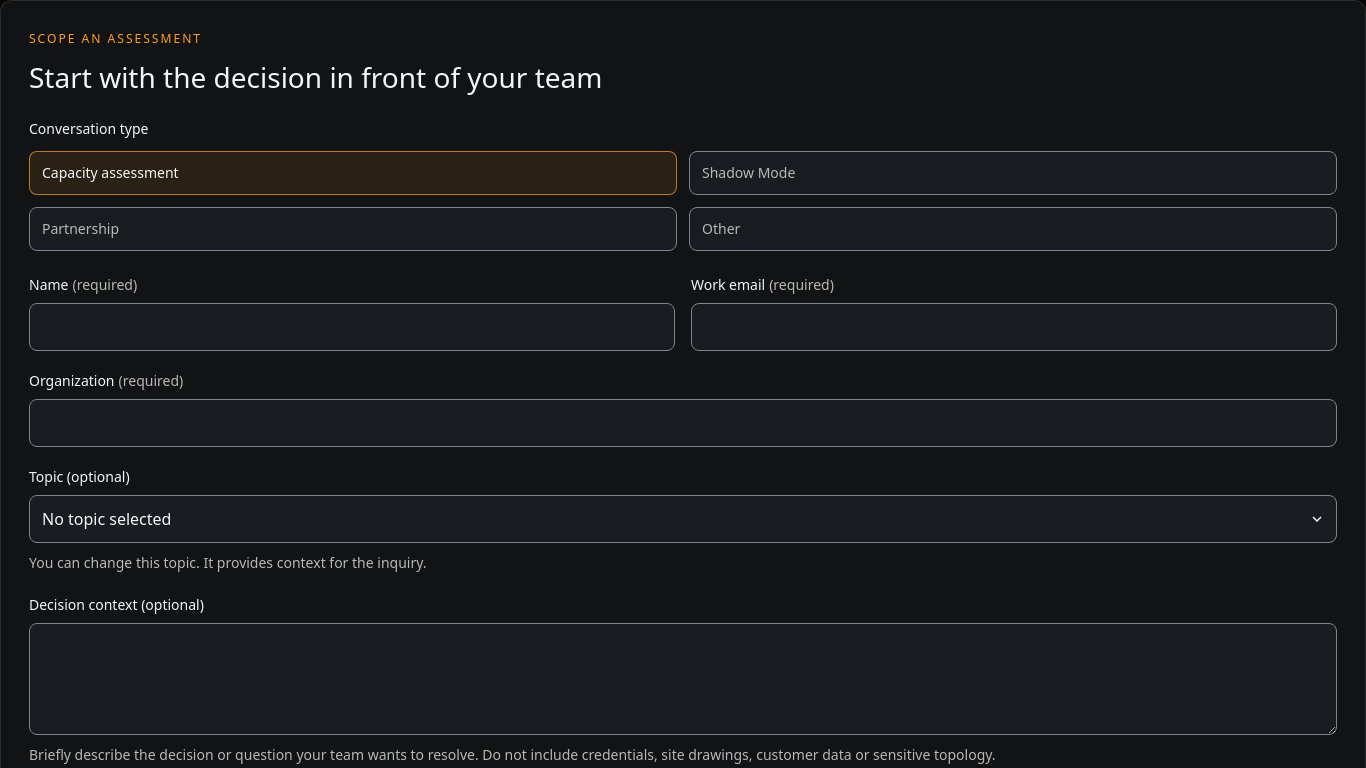
Test: truthful contact intake › shows durable receipt inline even with blocked tab storage and no message
This screenshot has width=1366, height=768.
Type "Alex Operator" into the field labelled "Name".
click(352, 327); type("Alex Operator")  # box x1=29 y1=303 x2=675 y2=351
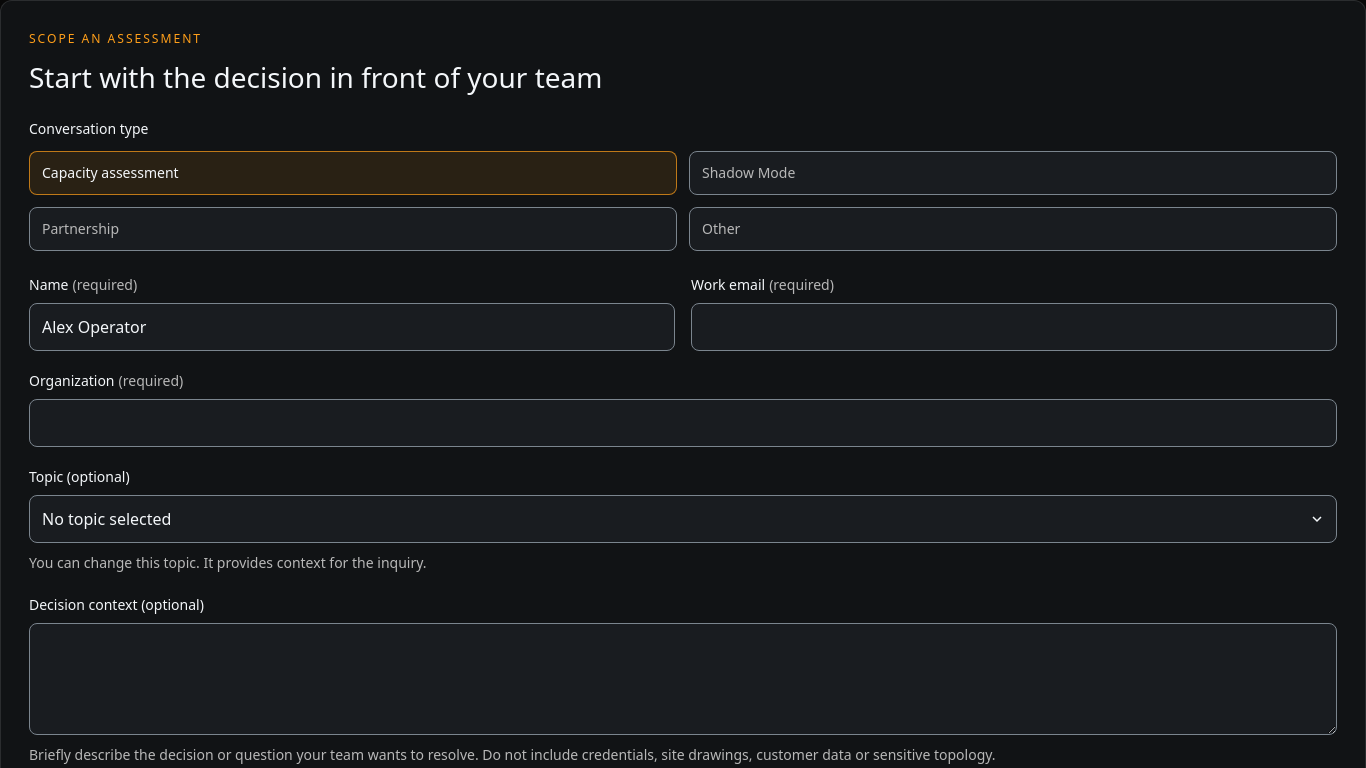
Type "alex@example.com" into the field labelled "Work email".
click(1014, 327); type("alex@example.com")  # box x1=691 y1=303 x2=1337 y2=351
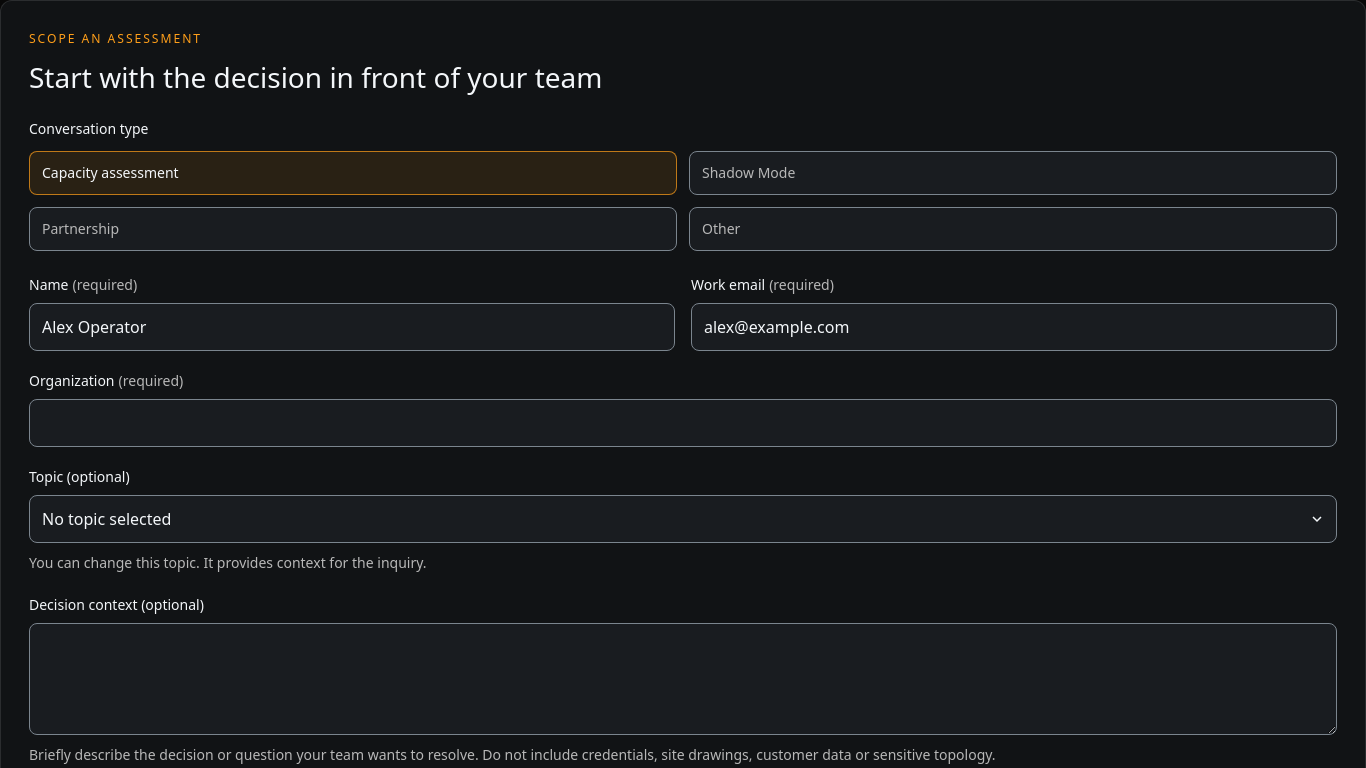
Type "Example Compute" into the field labelled "Organization".
click(683, 423); type("Example Compute")  # box x1=29 y1=399 x2=1337 y2=447
(page scrolled)
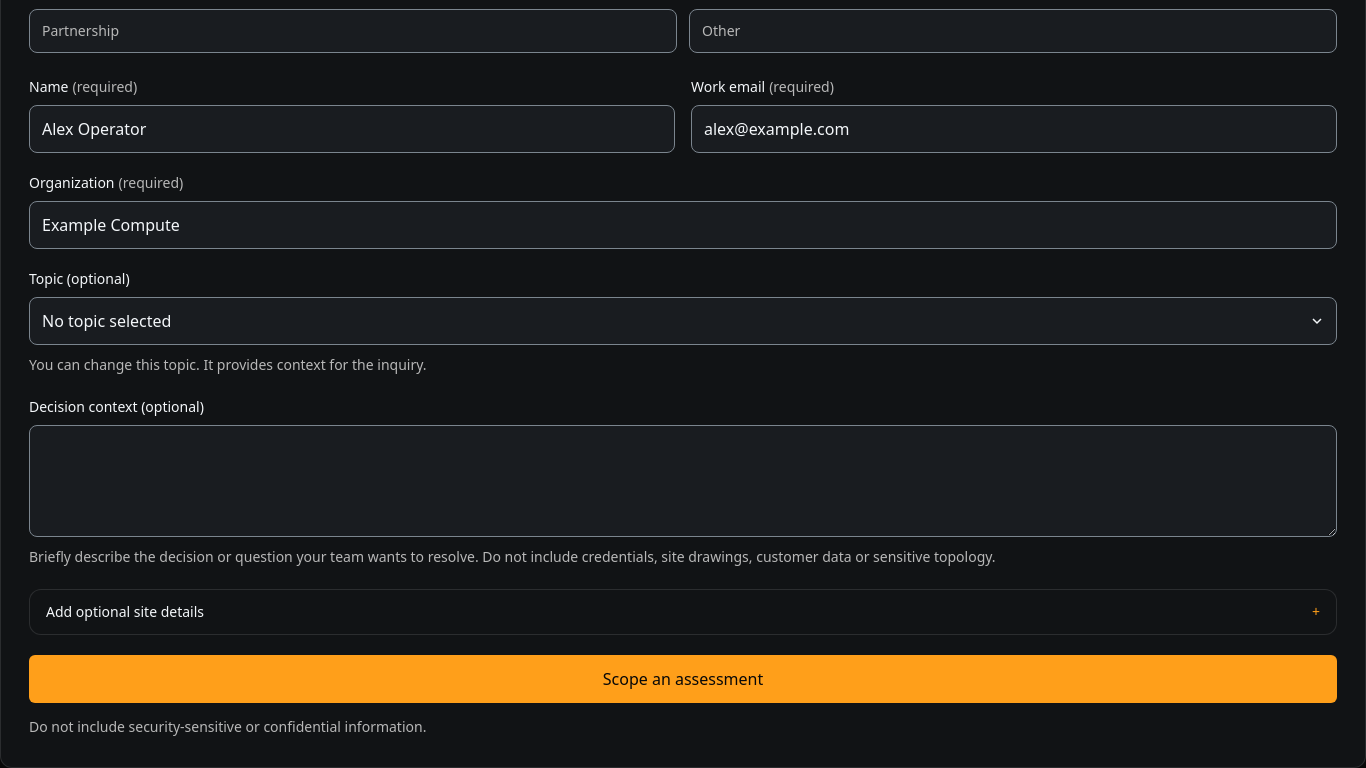
Click the button "Scope an assessment".
click(683, 679)  # box x1=29 y1=655 x2=1337 y2=703
(page scrolled)
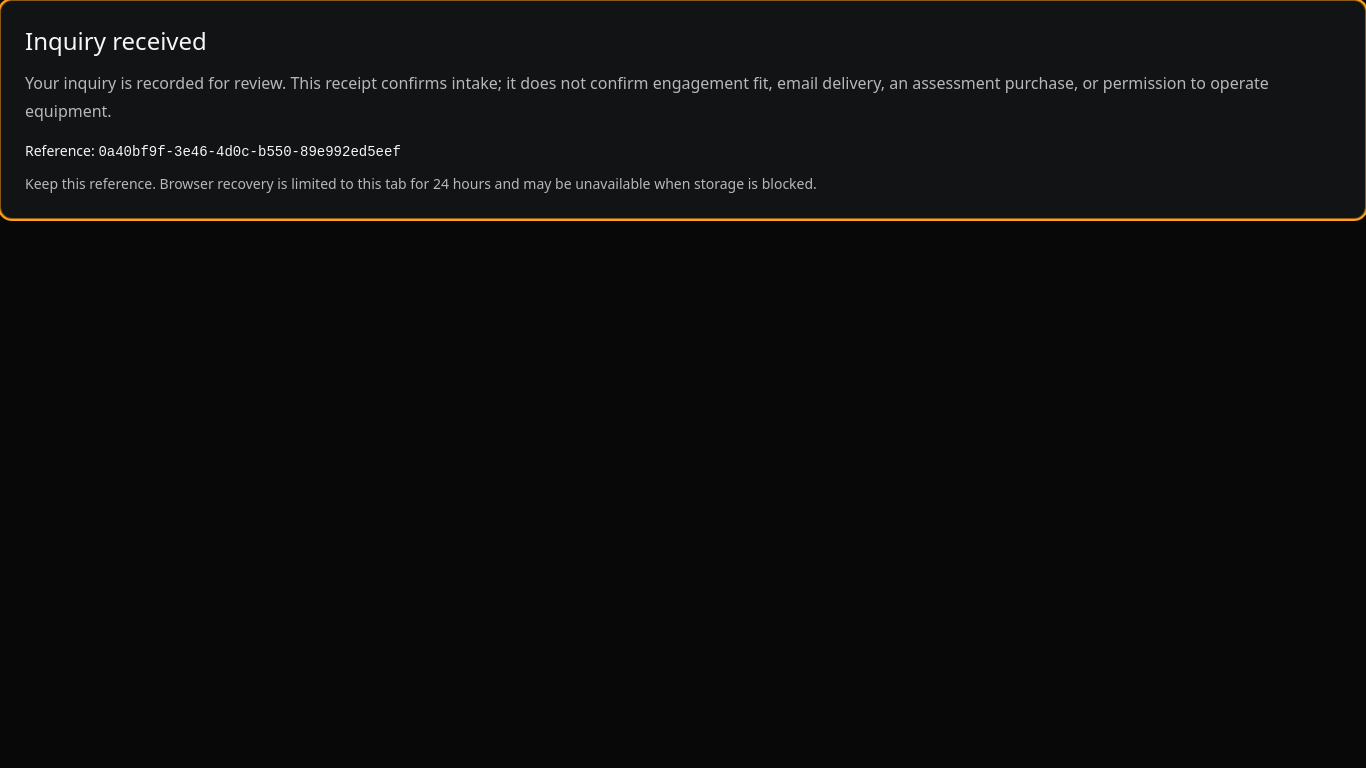
Now the heading "Inquiry received" is shown, box x1=25 y1=24 x2=207 y2=57
Now the text "0a40bf9f-3e46-4d0c-b550-89e992ed5eef" is shown, box x1=98 y1=144 x2=401 y2=160
